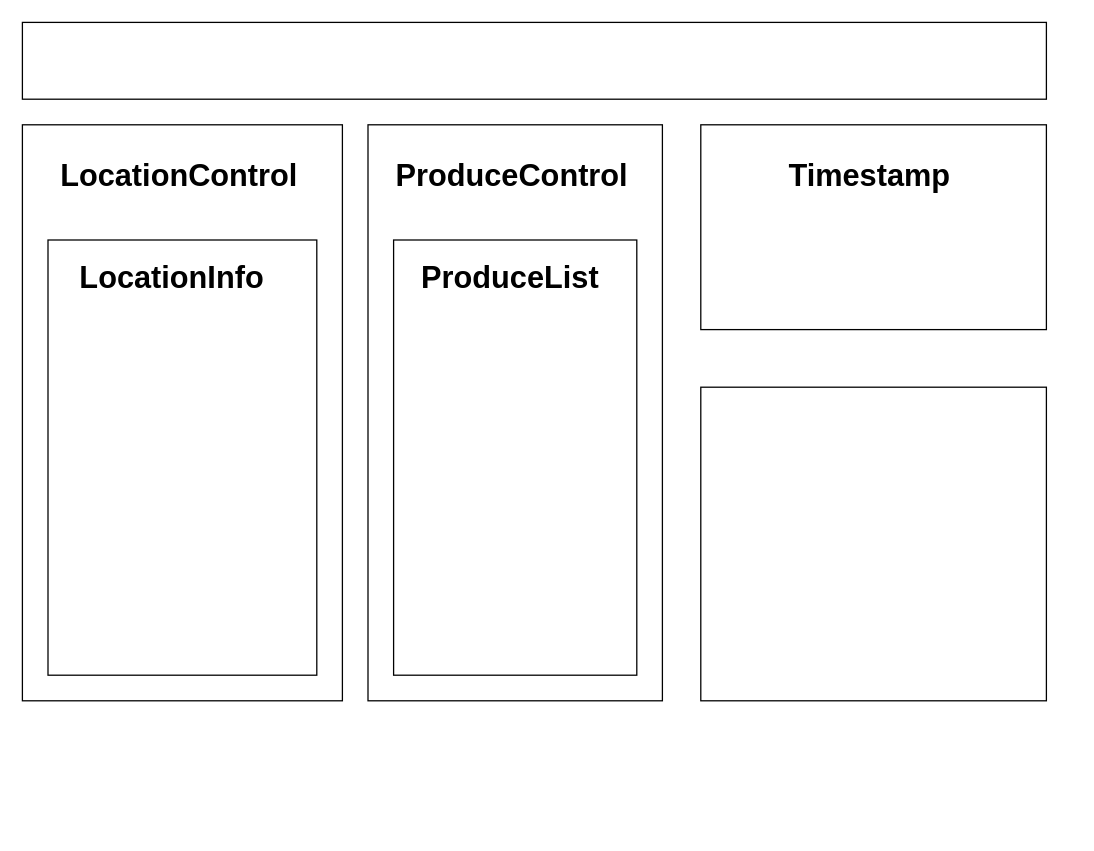
This 1094x851 diagram has some shape labels left out. The centre of each missing label's shape, as x and y in pixels:
Header: (533,60)
SeasonalImage: (873,543)
